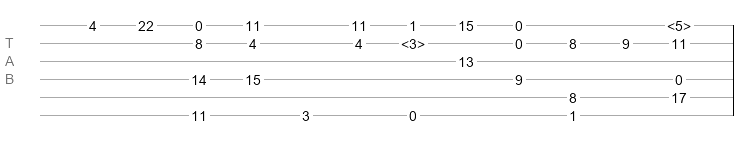0: (195, 18, 203, 28), (409, 108, 417, 118), (515, 36, 523, 46), (515, 18, 523, 28), (675, 72, 683, 82)
1: (409, 18, 417, 28), (569, 108, 577, 118)
11: (191, 108, 207, 118), (245, 18, 261, 28), (351, 18, 367, 28), (671, 36, 687, 46)
13: (458, 54, 474, 64)
14: (191, 72, 207, 82)
15: (245, 72, 261, 82), (458, 18, 474, 28)
17: (671, 90, 687, 100)
22: (138, 18, 154, 28)
3: (302, 108, 310, 118)
4: (89, 18, 97, 28), (249, 36, 257, 46), (355, 36, 363, 46)
8: (195, 36, 203, 46), (569, 90, 577, 100), (569, 36, 577, 46)
9: (515, 72, 523, 82), (622, 36, 630, 46)
harmonic: (401, 36, 425, 46), (667, 18, 691, 28)
